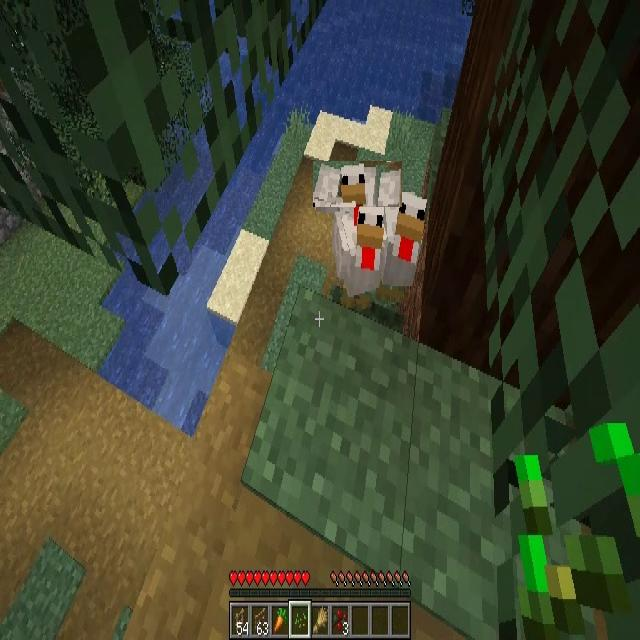duck: (336, 200, 384, 302), (313, 161, 402, 207), (387, 197, 428, 292)
